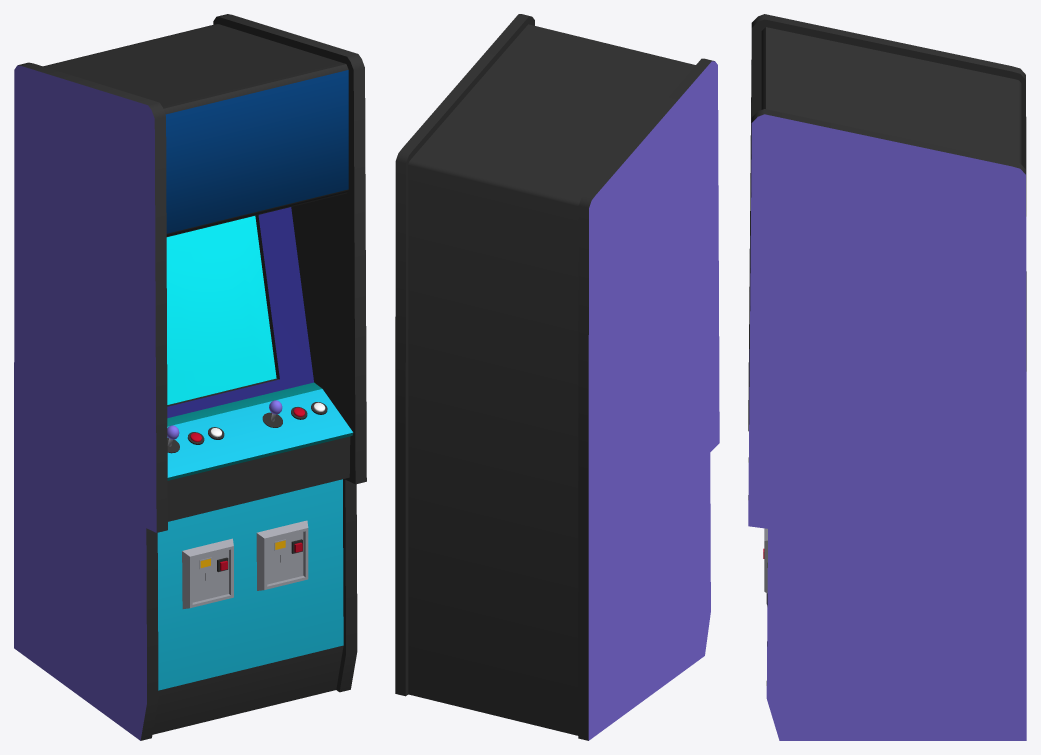
Rendered from ArcadeCabinetB.glb.
3 views of the same model, side by side, from view 1: azimuth 30°, elevation 25°; view 2: azimuth 150°, elevation 25°; view 3: azimuth 270°, elevation 25° (orthographic). The views are drawn at different scales.
Parts seen in each view (by area): view 1: Arcade_Cabinet.003; view 2: Arcade_Cabinet.003; view 3: Arcade_Cabinet.003.
Boxes of the visible parts, x1,y1,x2,y2 form: Arcade_Cabinet.003: (14, 14, 366, 740); Arcade_Cabinet.003: (395, 14, 719, 740); Arcade_Cabinet.003: (748, 14, 1026, 740).
Bounding box in the file's own units: 0.8042 × 2.34 × 0.9438.
Materials: 2 (2 with a texture image).
